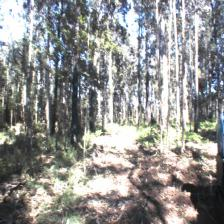trunktrack_idkeyframe: (70, 85, 80, 131), (194, 82, 200, 133)
